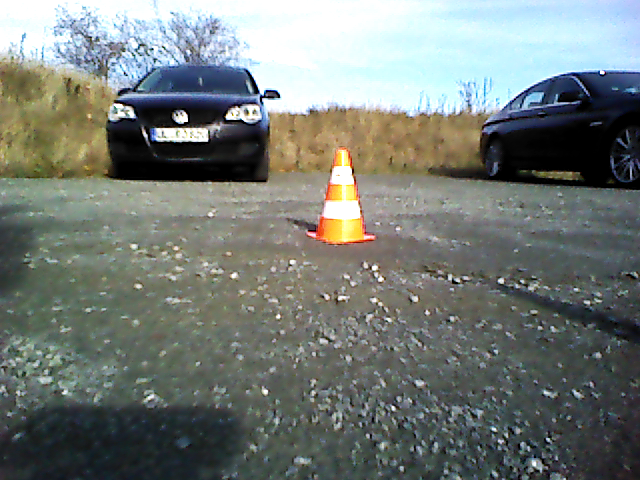orangeconesmall: (313, 151, 374, 243)
